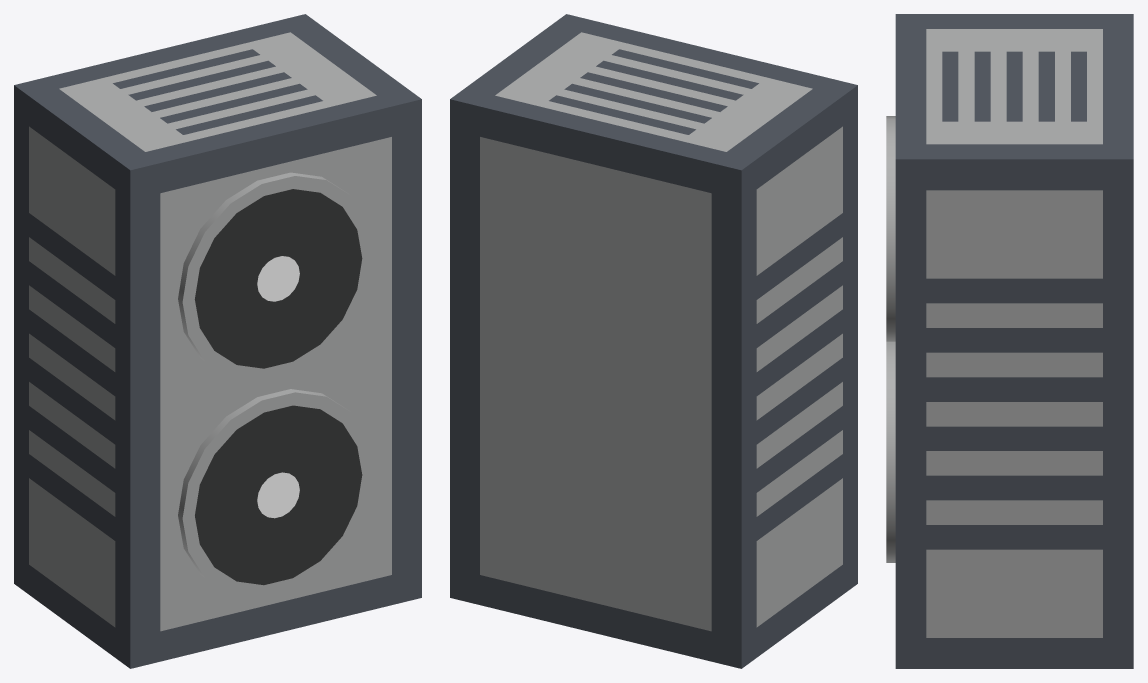
The picture shows the model from 3 angles, left to right: view 1: azimuth 30°, elevation 25°; view 2: azimuth 150°, elevation 25°; view 3: azimuth 270°, elevation 25°; orthographic projection. The views are drawn at different scales.
Parts seen in each view (by area): view 1: ac3; view 2: ac3; view 3: ac3.
Boxes of the visible parts, x1,y1,x2,y2 form: ac3: [14, 14, 421, 668]; ac3: [450, 14, 857, 668]; ac3: [886, 14, 1133, 668].
Size of the model in its own units: 2 by 3.27 by 1.44.
